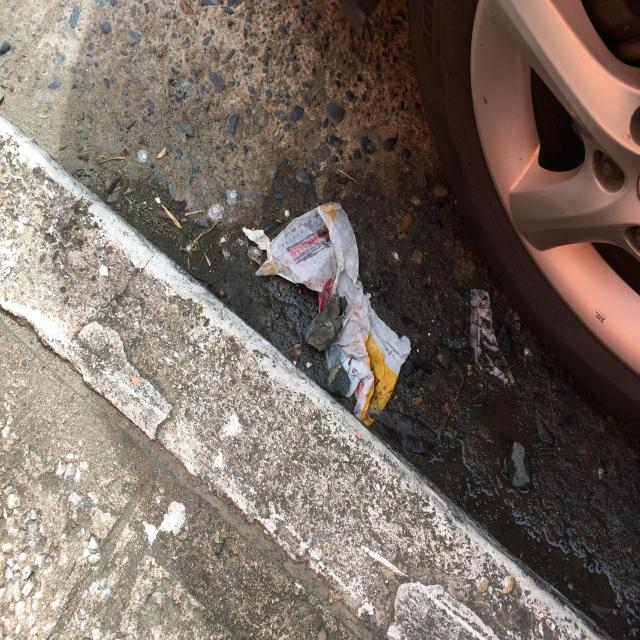litter: (255, 202, 411, 426), (470, 288, 515, 385), (242, 227, 270, 250)
